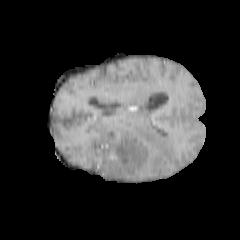glioma: (90, 121, 175, 179)
